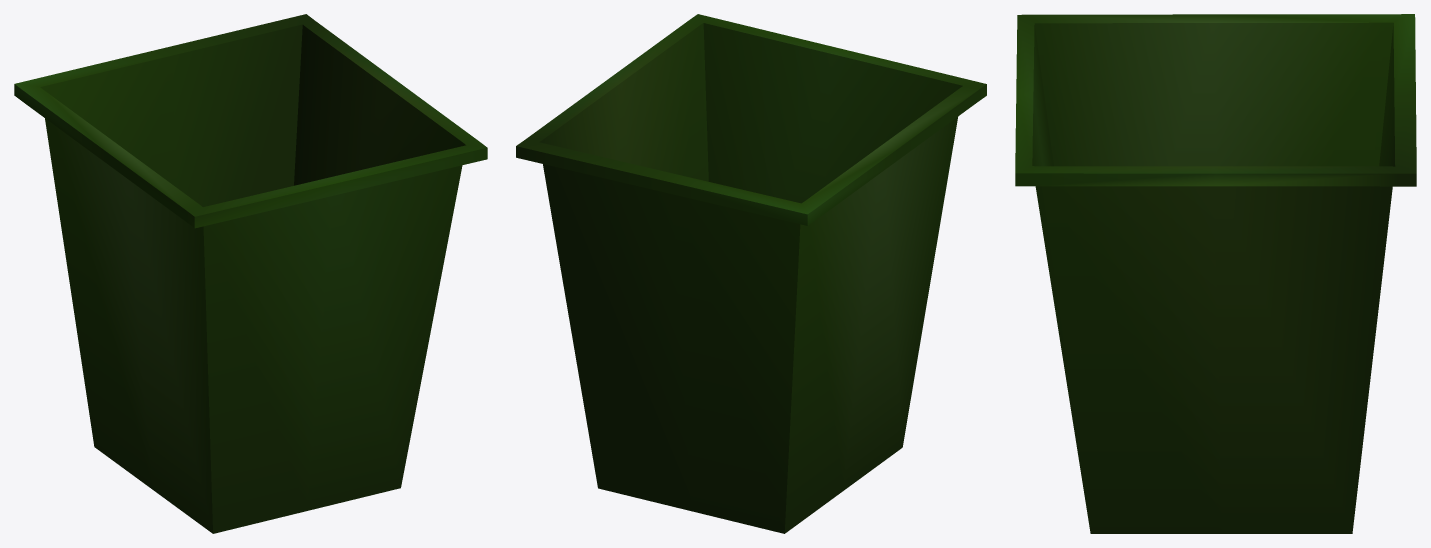
Rendered from garbage_can_8kb.glb.
The picture shows the model from 3 angles, left to right: view 1: azimuth 30°, elevation 25°; view 2: azimuth 150°, elevation 25°; view 3: azimuth 270°, elevation 25°; orthographic projection. The views are drawn at different scales.
Size of the model in its own units: 3.12 by 3.61 by 3.36.
